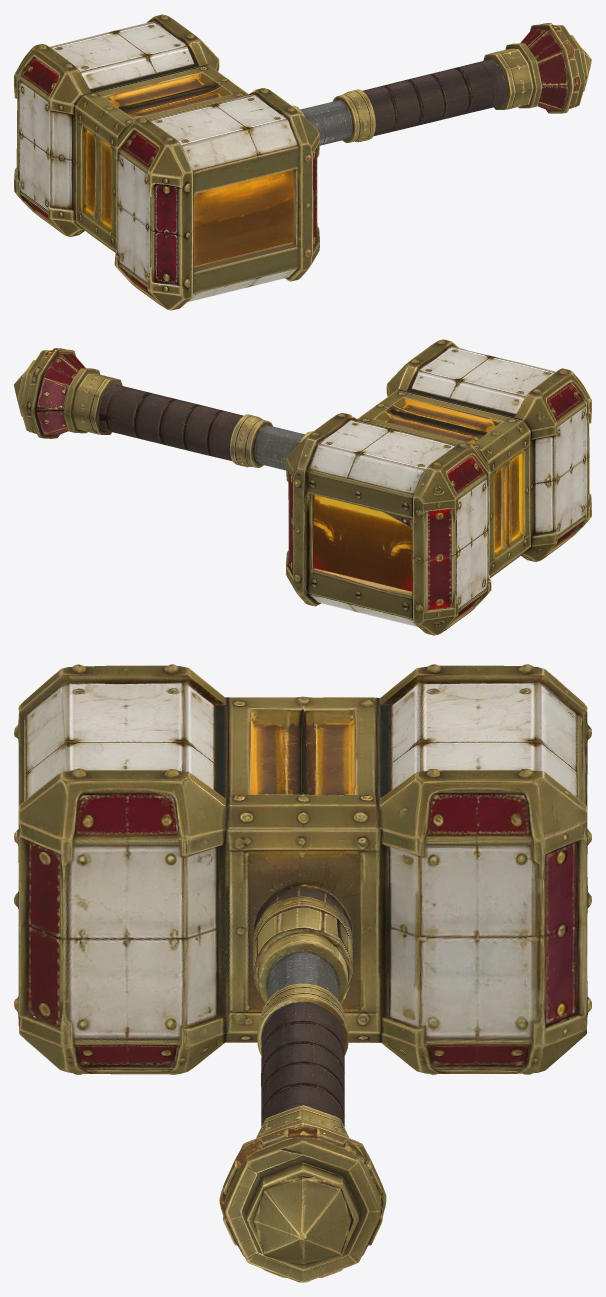
File: bastion-hammer.glb
The picture shows the model from 3 angles, top to bottom: view 1: azimuth 30°, elevation 25°; view 2: azimuth 150°, elevation 25°; view 3: azimuth 270°, elevation 25°; orthographic projection. The views are drawn at different scales.
Parts seen in each view (by area): view 1: Mesh_0; view 2: Mesh_0; view 3: Mesh_0.
Part boxes in pixels (x1,y1,x2,y2): Mesh_0: [14, 14, 591, 310]; Mesh_0: [14, 339, 591, 635]; Mesh_0: [14, 664, 591, 1282].
Bounding box in the file's own units: 1.9 × 0.6139 × 1.06.
Materials: 1 (1 with a texture image).
